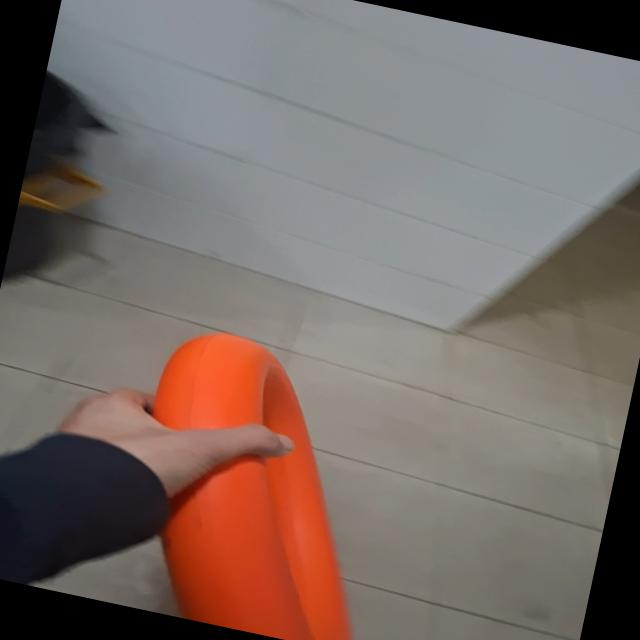note: (108, 319, 413, 640)
